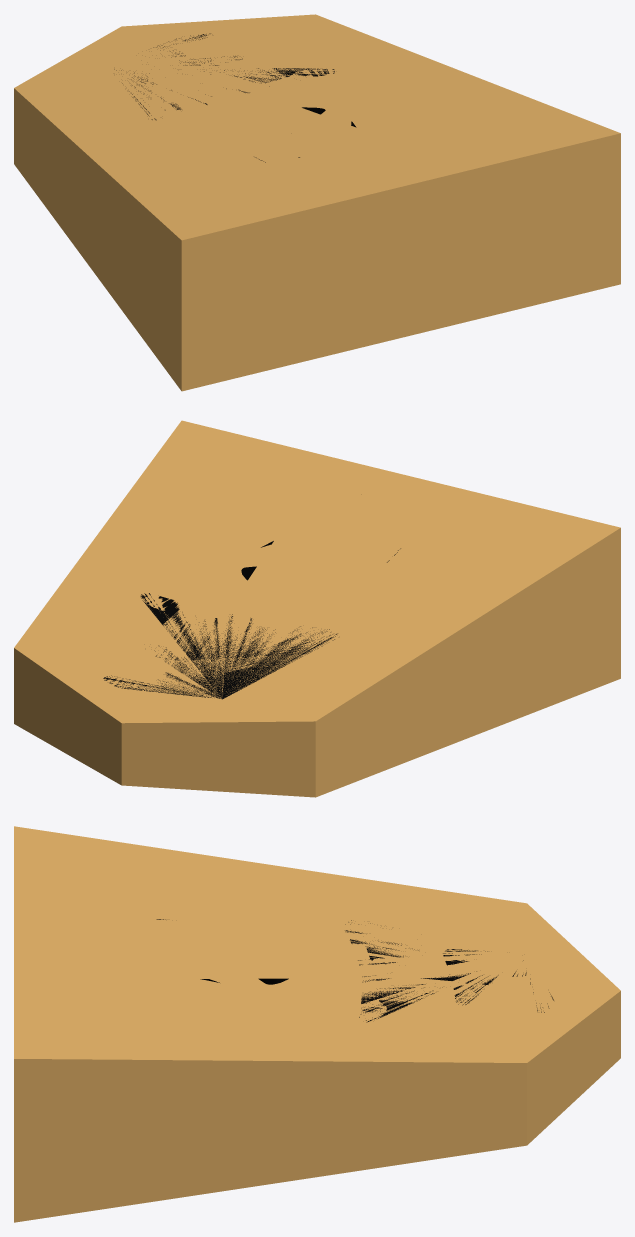
3 views of the same model, one above another, from view 1: azimuth 30°, elevation 25°; view 2: azimuth 150°, elevation 25°; view 3: azimuth 270°, elevation 25° (orthographic). The views are drawn at different scales.
Parts seen in each view (by area): view 1: ou; view 2: ou; view 3: ou.
Part boxes in pixels (x1,y1,x2,y2): ou: [14, 14, 620, 391]; ou: [14, 420, 620, 797]; ou: [14, 826, 620, 1222].
Size of the model in its own units: 0.028 by 0.0092 by 0.0309.
